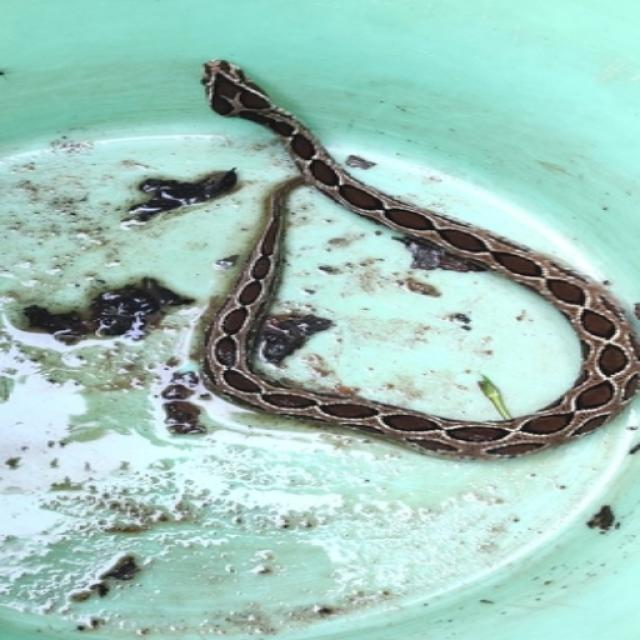snake: (187, 52, 640, 461)
